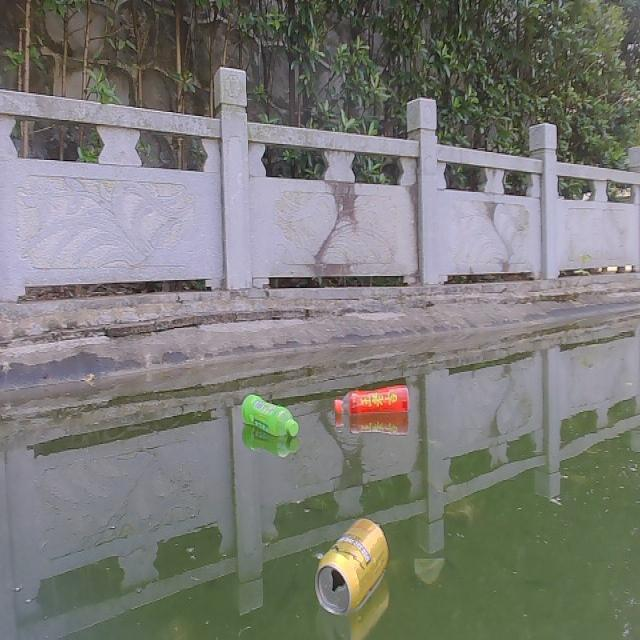Bottle: (239, 391, 300, 444), (333, 385, 414, 423)
Can: (313, 517, 391, 615)
